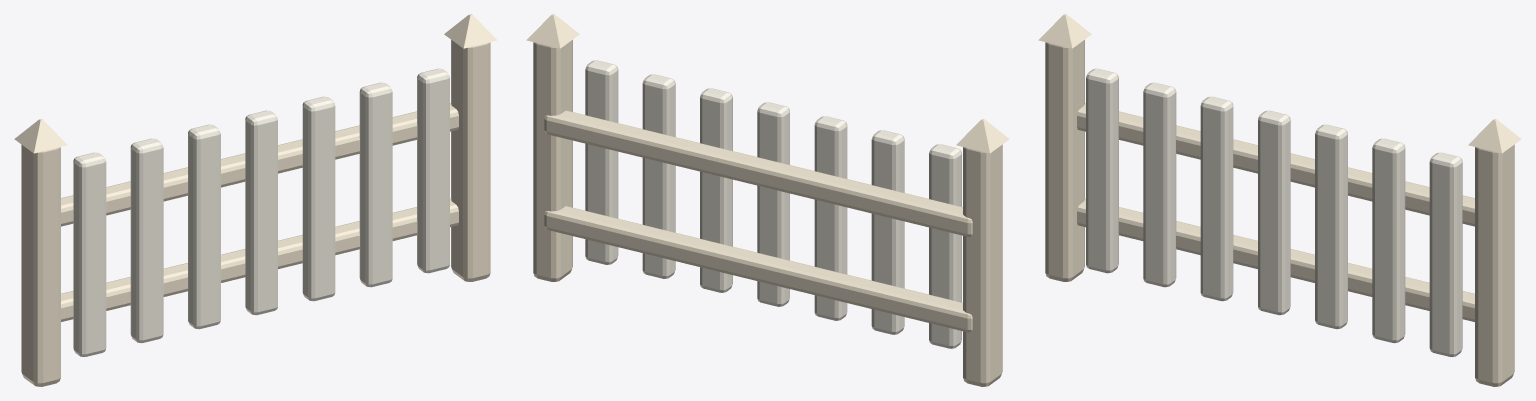
Rendered from fence_picket.glb.
The picture shows the model from 3 angles, left to right: view 1: azimuth 30°, elevation 25°; view 2: azimuth 150°, elevation 25°; view 3: azimuth 330°, elevation 25°; orthographic projection.
Parts seen in each view (by area): view 1: fence_picket__Post, fence_picket__Post.001, fence_picket__Picket.004, fence_picket__Picket.001, fence_picket__Picket, fence_picket__Picket.005, fence_picket__Picket.006, fence_picket__Picket.003, fence_picket__Picket.002, fence_picket__Rail.001, fence_picket__Rail, fence_picket__Post cap (+1 smaller); view 2: fence_picket__Rail, fence_picket__Rail.001, fence_picket__Post, fence_picket__Post.001, fence_picket__Picket.006, fence_picket__Picket.002, fence_picket__Picket.005, fence_picket__Picket.001, fence_picket__Picket.003, fence_picket__Picket, fence_picket__Picket.004, fence_picket__Post cap (+1 smaller); view 3: fence_picket__Post.001, fence_picket__Post, fence_picket__Picket.002, fence_picket__Picket.005, fence_picket__Picket.006, fence_picket__Picket.001, fence_picket__Picket, fence_picket__Picket.003, fence_picket__Picket.004, fence_picket__Rail.001, fence_picket__Rail, fence_picket__Post cap.001 (+1 smaller).
Part boxes in pixels (<box>): fence_picket__Post: <box>21,144,60,386</box>; fence_picket__Post.001: <box>451,40,490,281</box>; fence_picket__Picket.004: <box>302,96,335,301</box>; fence_picket__Picket.001: <box>130,138,163,343</box>; fence_picket__Picket: <box>73,152,106,357</box>; fence_picket__Picket.005: <box>359,82,392,287</box>; fence_picket__Picket.006: <box>417,68,449,273</box>; fence_picket__Picket.003: <box>245,110,277,315</box>; fence_picket__Picket.002: <box>188,124,220,329</box>; fence_picket__Rail.001: <box>61,103,458,226</box>; fence_picket__Rail: <box>61,198,458,321</box>; fence_picket__Post cap: <box>14,119,67,153</box>; fence_picket__Rail: <box>544,206,972,332</box>; fence_picket__Rail.001: <box>544,110,972,236</box>; fence_picket__Post: <box>963,144,1002,386</box>; fence_picket__Post.001: <box>533,40,572,281</box>; fence_picket__Picket.006: <box>585,60,618,264</box>; fence_picket__Picket.002: <box>814,116,847,320</box>; fence_picket__Picket.005: <box>642,74,675,278</box>; fence_picket__Picket.001: <box>871,130,904,334</box>; fence_picket__Picket.003: <box>757,102,789,306</box>; fence_picket__Picket: <box>929,144,961,348</box>; fence_picket__Picket.004: <box>700,88,732,292</box>; fence_picket__Post cap: <box>956,119,1009,153</box>; fence_picket__Post.001: <box>1475,144,1514,386</box>; fence_picket__Post: <box>1045,40,1084,281</box>; fence_picket__Picket.002: <box>1200,96,1233,301</box>; fence_picket__Picket.005: <box>1372,138,1405,343</box>; fence_picket__Picket.006: <box>1429,152,1462,357</box>; fence_picket__Picket.001: <box>1143,82,1176,287</box>; fence_picket__Picket: <box>1086,68,1118,273</box>; fence_picket__Picket.003: <box>1258,110,1290,315</box>; fence_picket__Picket.004: <box>1315,124,1347,329</box>; fence_picket__Rail.001: <box>1077,103,1474,226</box>; fence_picket__Rail: <box>1077,198,1474,321</box>; fence_picket__Post cap.001: <box>1468,119,1521,153</box>.
Bounding box in the file's own units: 0.5182 × 0.279 × 0.042.
